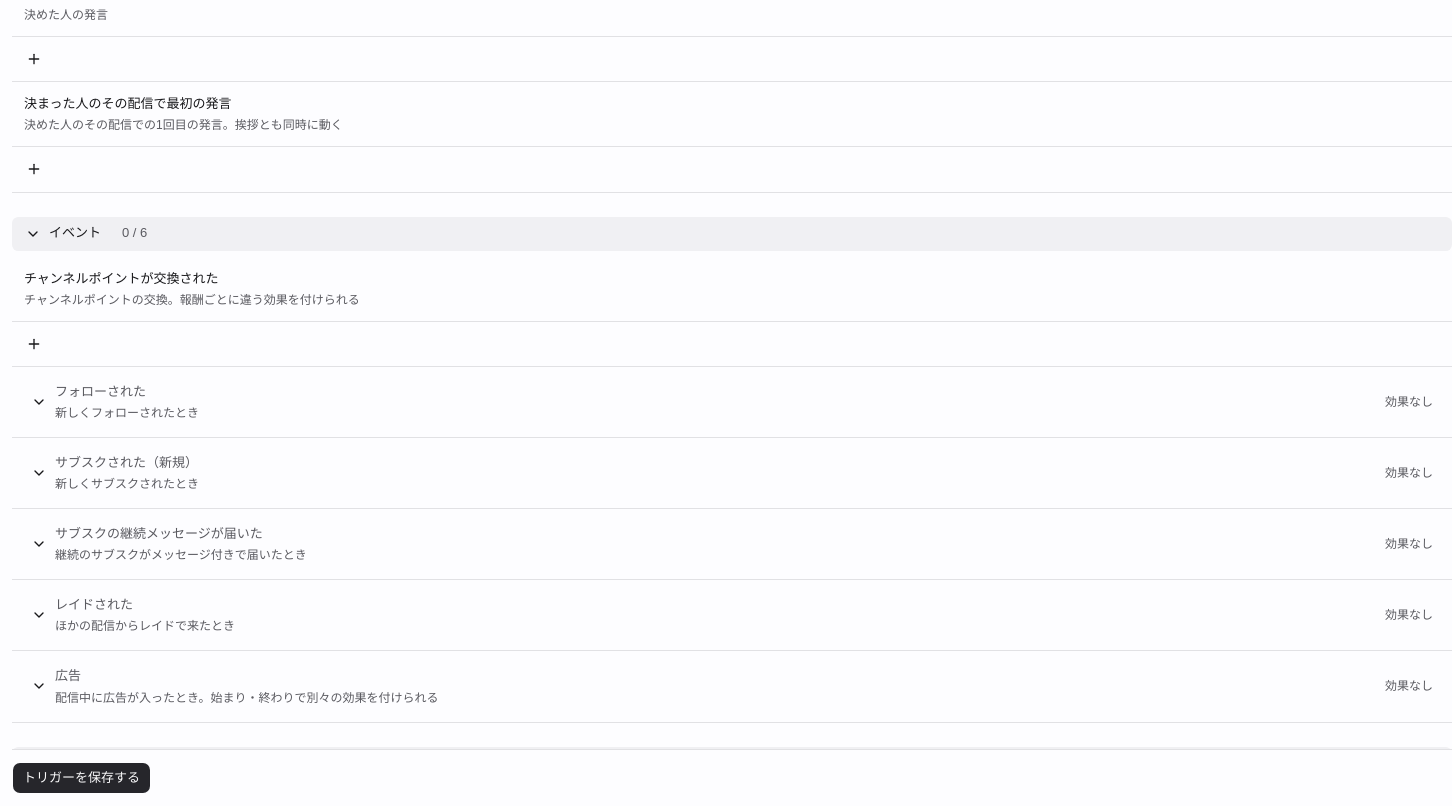
Test case: 効果の付け外し › 効果を付けて保存すると、その出来事のトリガーとしてWorkerへ送る
(page scrolled)
Click the button "フォローされた 新しくフォローされたとき 効果なし": (101, 391) [20,375,1444,429]
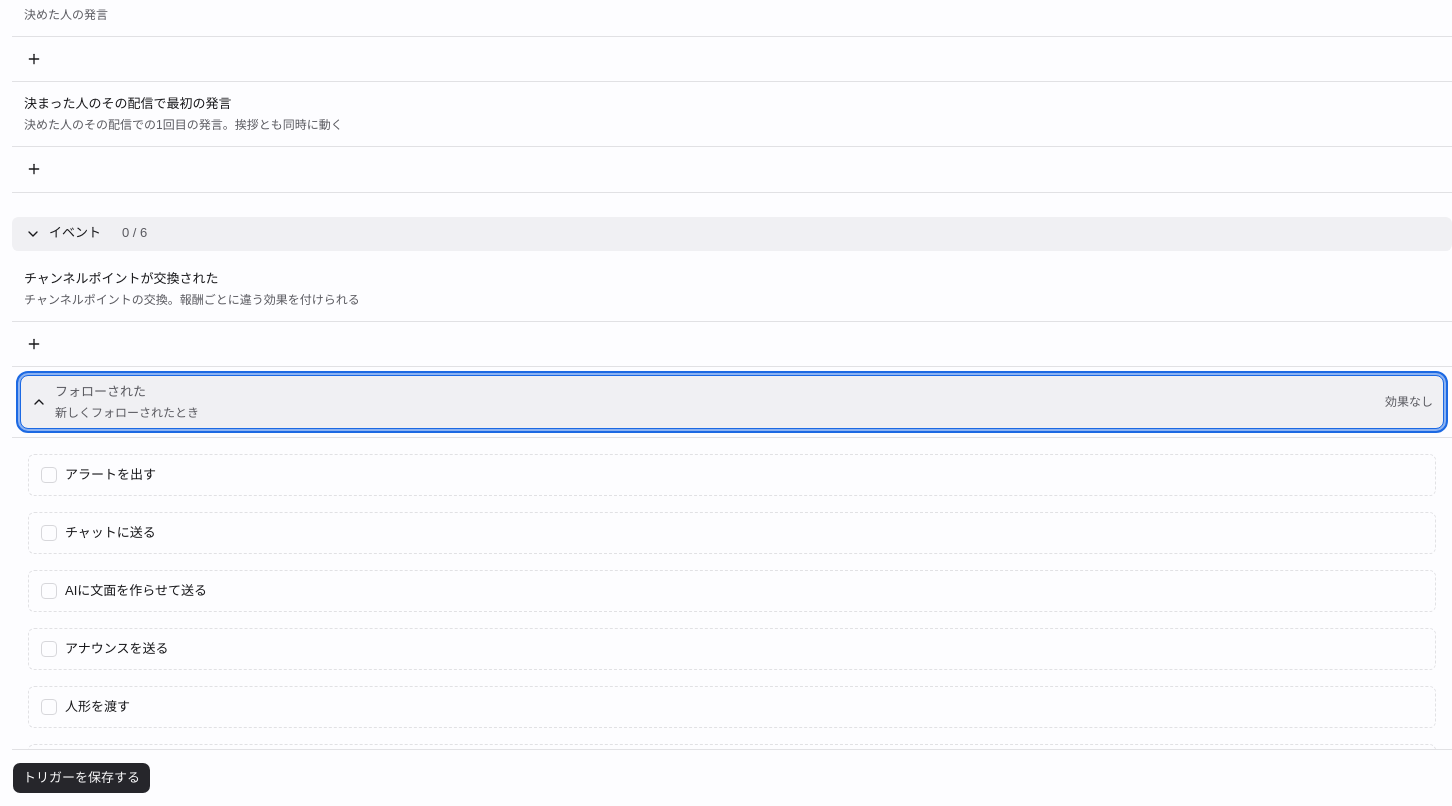
Click the checkbox named "チャットに送る" next to "チャットに送る": (49, 533) [41,525,57,541]
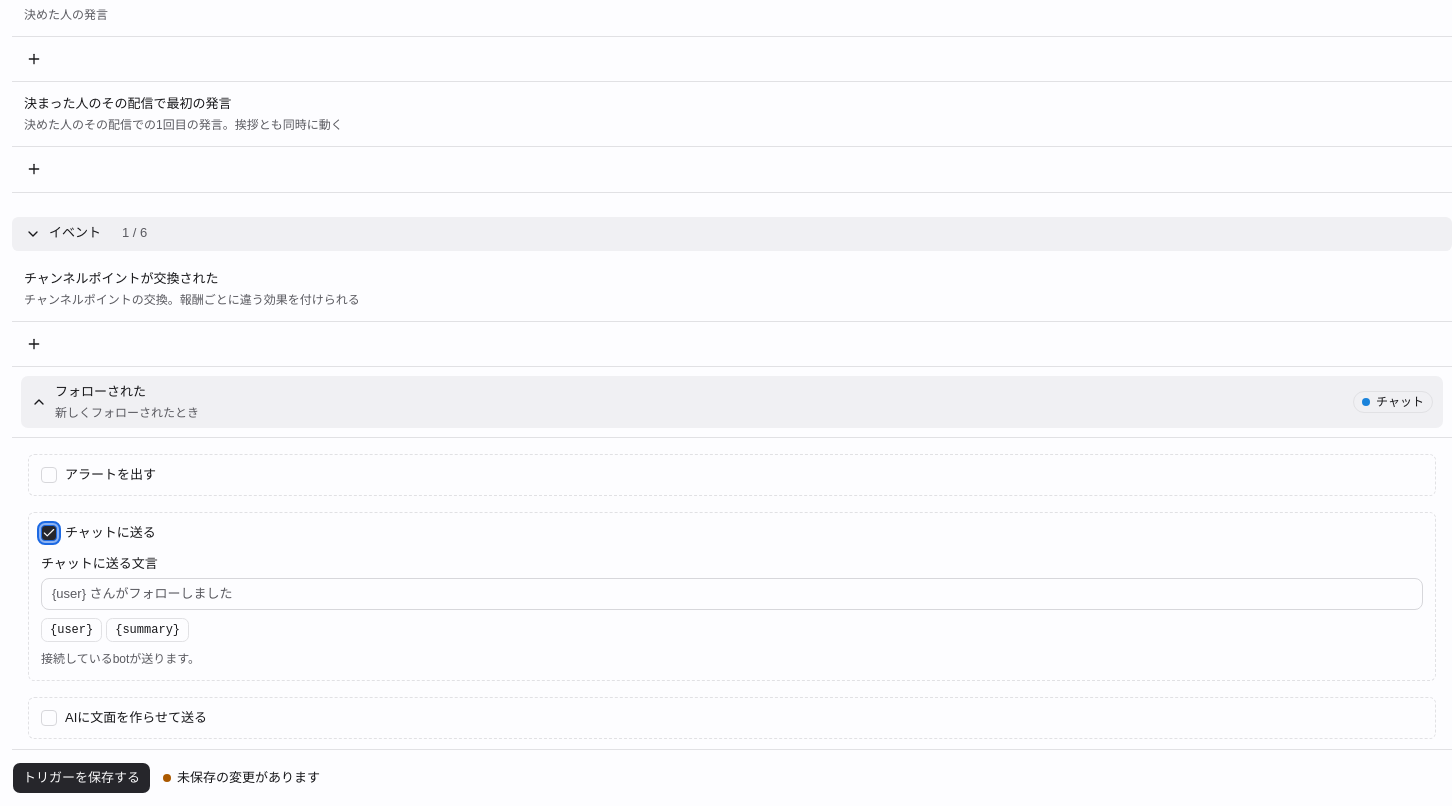
In the field labelled "チャットに送る文言": (732, 594) [41,578,1423,610], type "ありがとう"
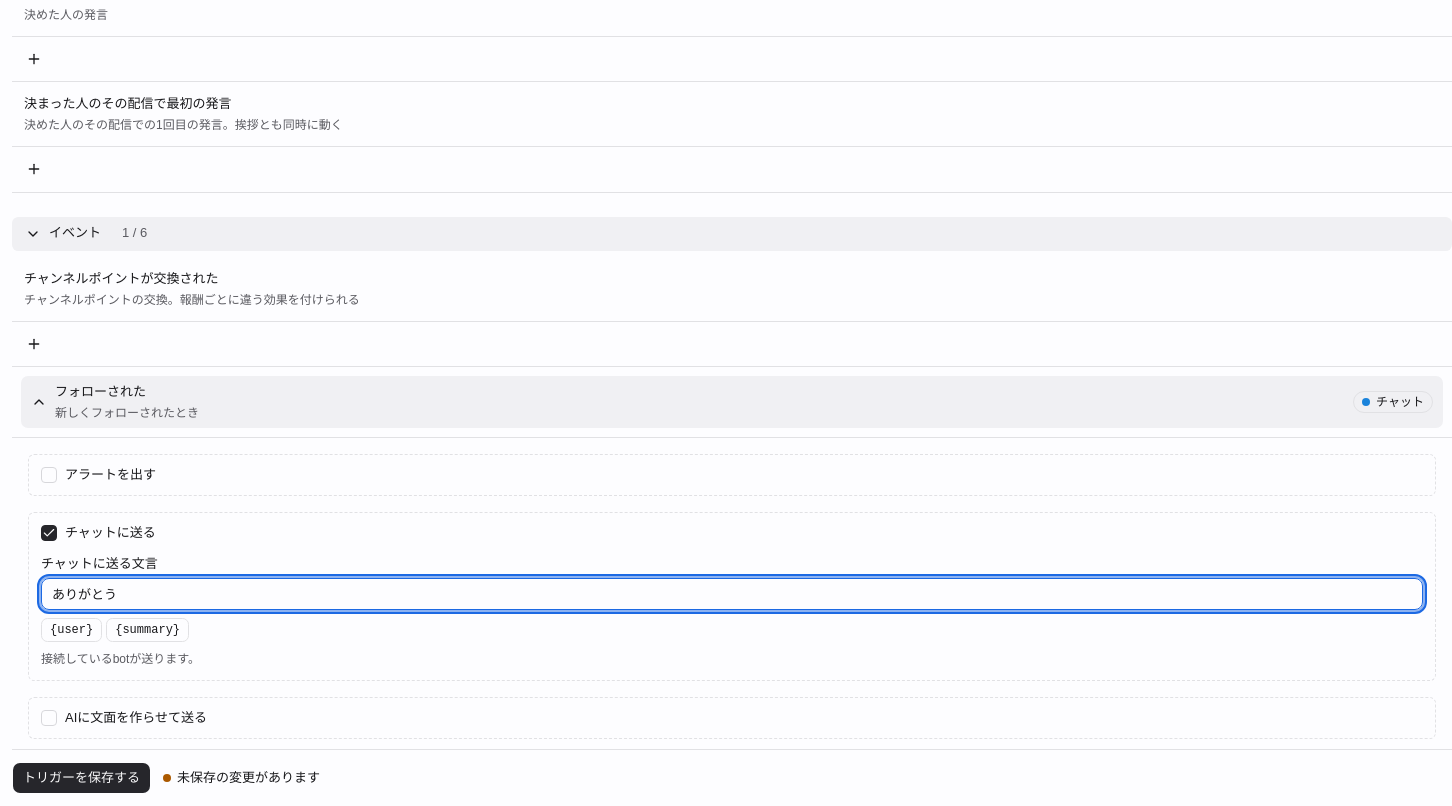
Click the button "トリガーを保存する": (82, 778) [12,762,151,794]
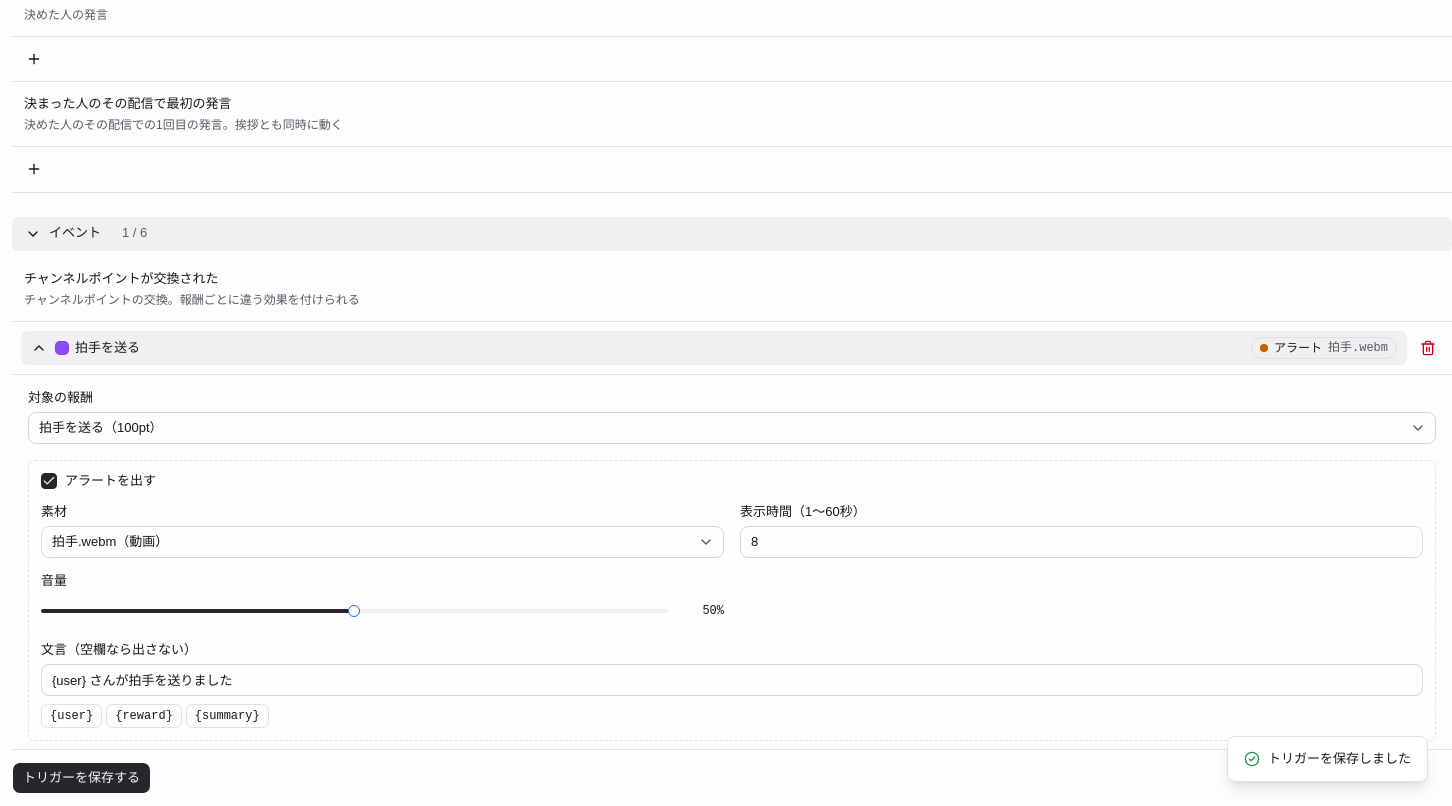
Expected: the text "トリガーを保存しました" is shown, [1227,736,1428,782]
